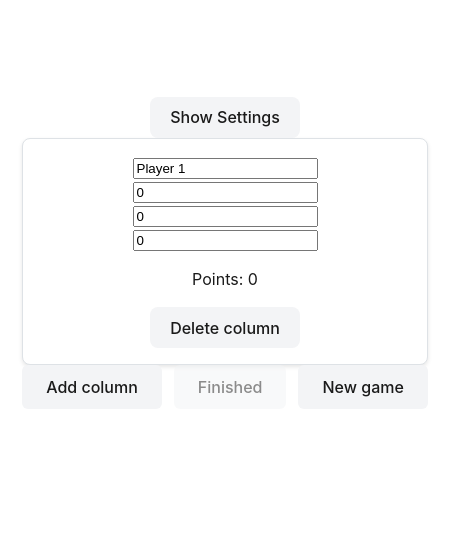
Test: PointsCalculator › finishes the game and displays winner
This screenshot has width=451, height=537.
Replace the text in the number field named "Round 1 Points for Player 1" with "5" at x=225, y=192, box [132,182,318,203]
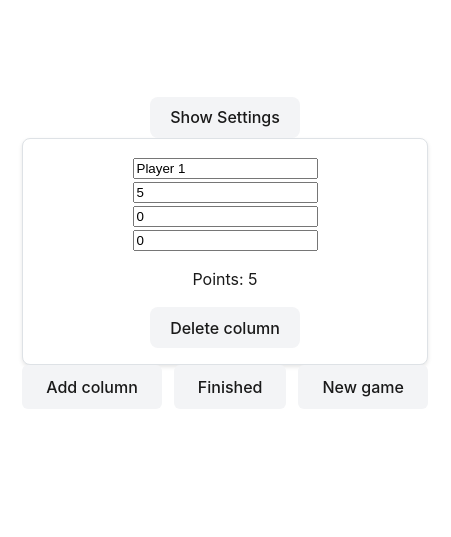
Click the button "Finished" at x=230, y=387, box [174,365,286,409]
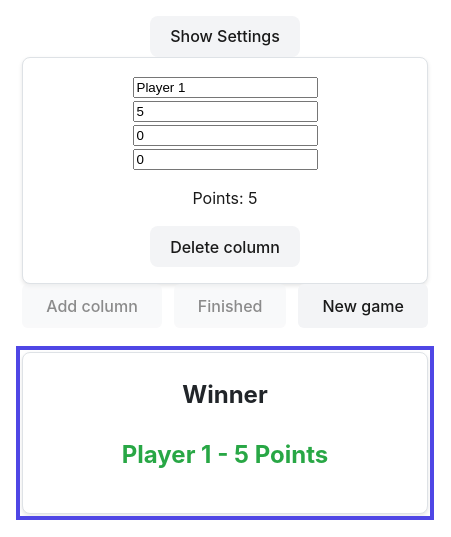
Result: the text "Player 1 - 5 Points" is shown at [122,440,328,469]
